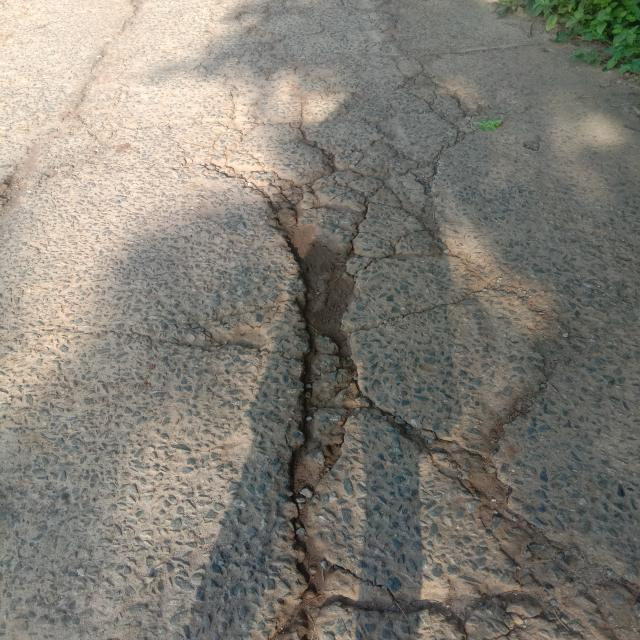cracks: (243, 130, 375, 540)
